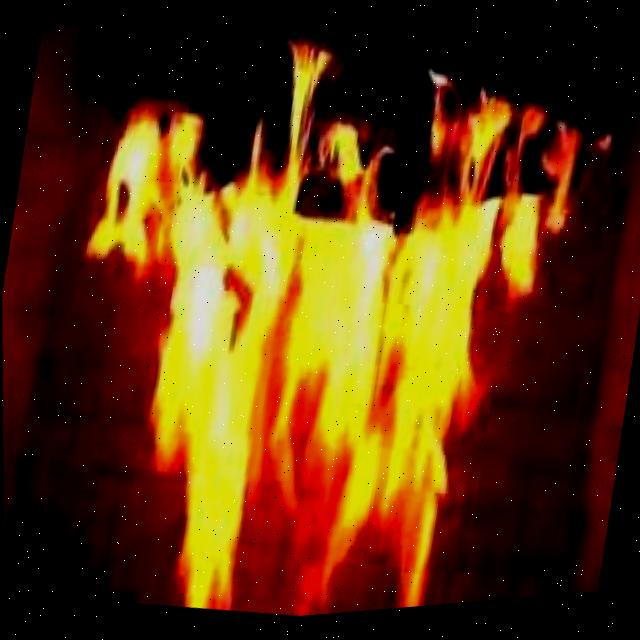Fire: (15, 0, 619, 639)
